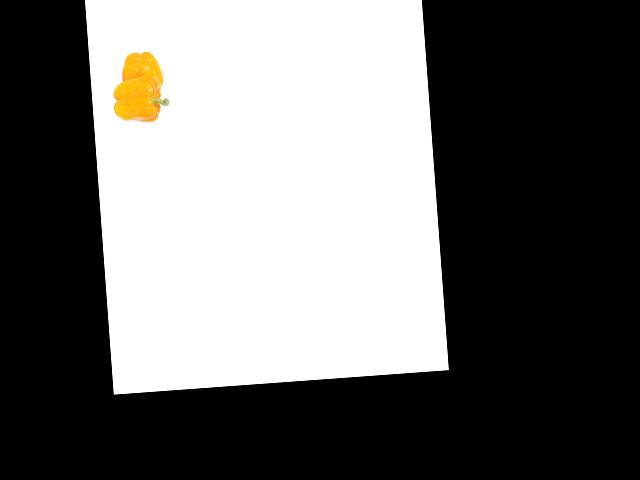bell_pepper: (114, 47, 165, 94)
